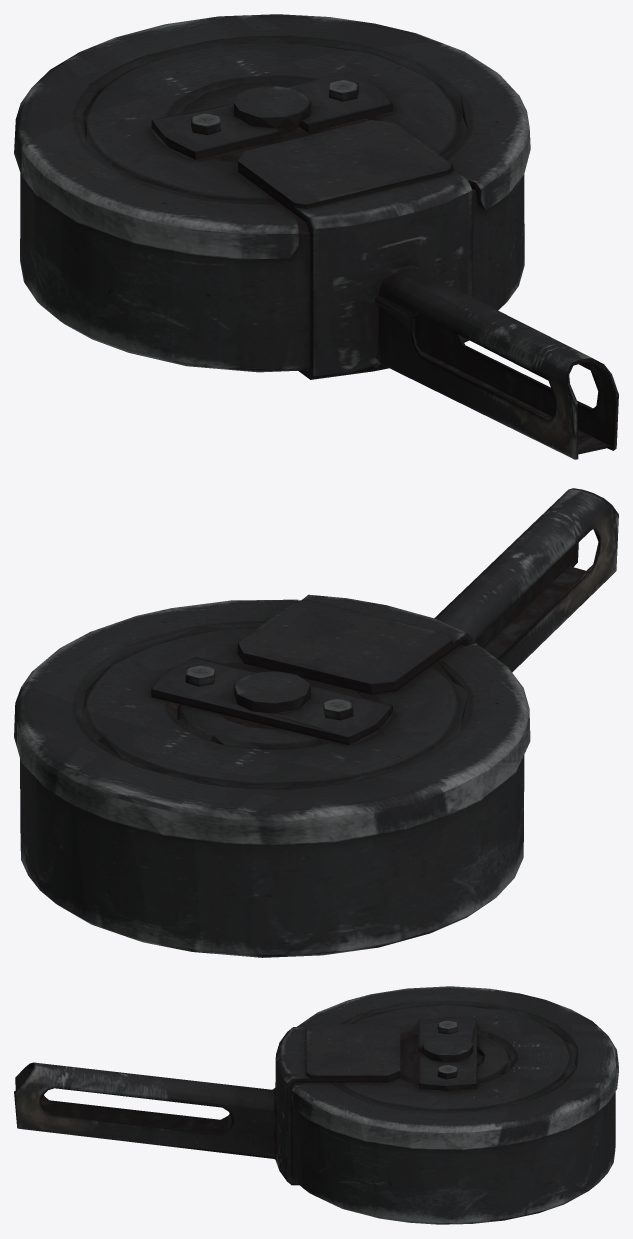
File: Mag380Drum_Ground.fbx
3 views of the same model, one above another, from view 1: azimuth 30°, elevation 25°; view 2: azimuth 150°, elevation 25°; view 3: azimuth 270°, elevation 25° (orthographic). The views are drawn at different scales.
Parts seen in each view (by area): view 1: Mag380Drum; view 2: Mag380Drum; view 3: Mag380Drum.
Part boxes in pixels (x1,y1,x2,y2): Mag380Drum: [14, 14, 618, 459]; Mag380Drum: [14, 488, 618, 957]; Mag380Drum: [14, 986, 618, 1224].
Size of the model in its own units: 0.1167 by 0.047 by 0.2062.
